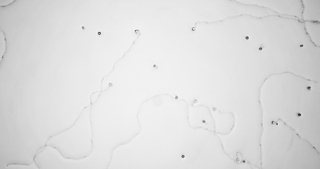germinated: (190, 23, 197, 32), (270, 118, 279, 125), (133, 29, 140, 37), (105, 81, 112, 89), (234, 154, 240, 162), (191, 97, 197, 104), (212, 106, 219, 112)
nongerminated: (295, 110, 302, 117), (179, 152, 186, 159), (244, 34, 250, 41), (305, 84, 311, 91), (201, 117, 207, 124), (80, 24, 86, 31), (298, 42, 304, 48), (257, 45, 263, 51), (173, 93, 179, 99), (151, 63, 157, 69), (96, 30, 102, 36)
